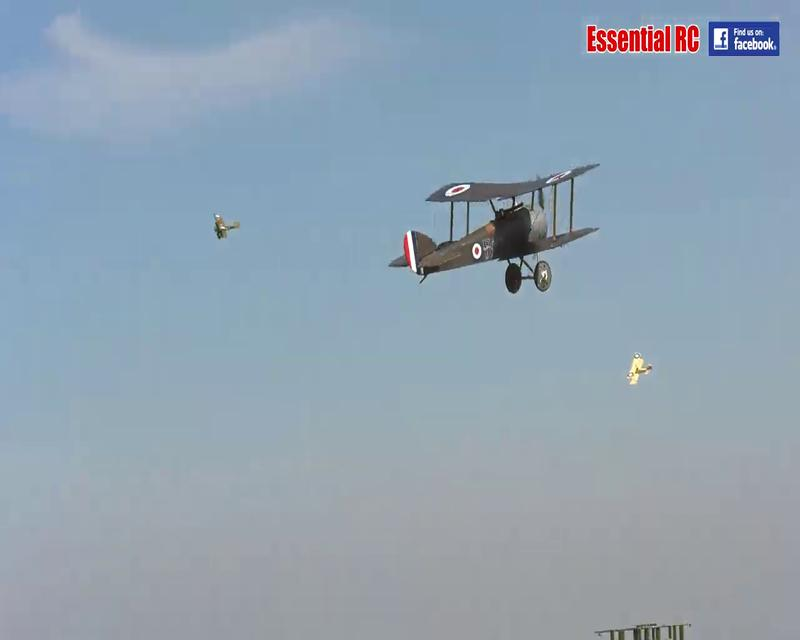UAV: (389, 162, 603, 294), (626, 350, 654, 386), (210, 212, 241, 241)
